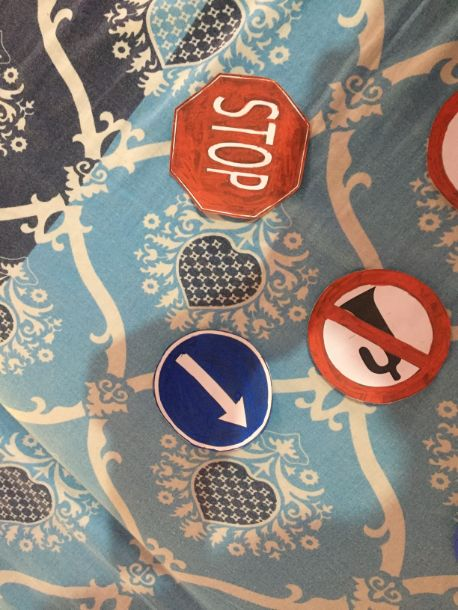go-stright: (156, 332, 272, 448)
no-horn: (308, 269, 446, 407)
stop: (170, 75, 314, 219)
